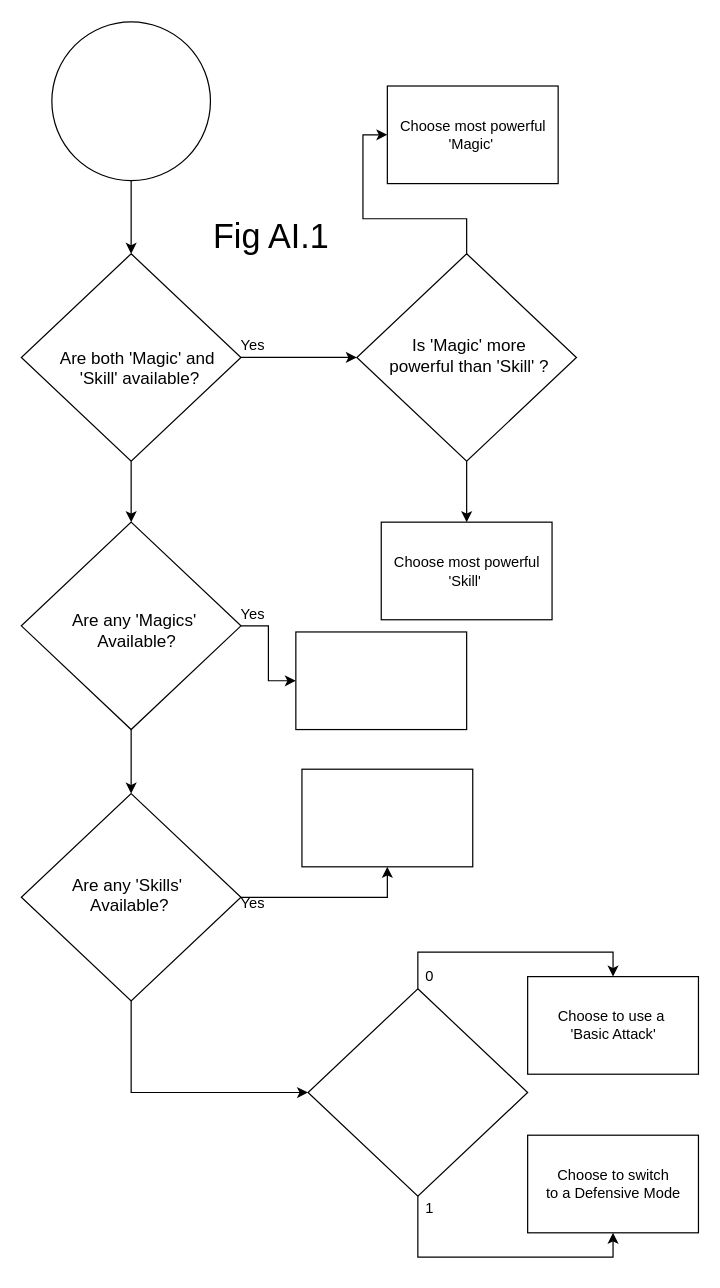
The diagram is 720 pixels wide and 1288 high, and some of its shapes have lost their labels. The centre of each missing label's shape, as x and y in pixels:
Choose most powerful available 'Magic': the point at 381,680
Choose most powerful available 'Skill': the point at 387,817
Randomly choose between 0,1: the point at 417,1092
Start Aggresive Decision: the point at 130,101
